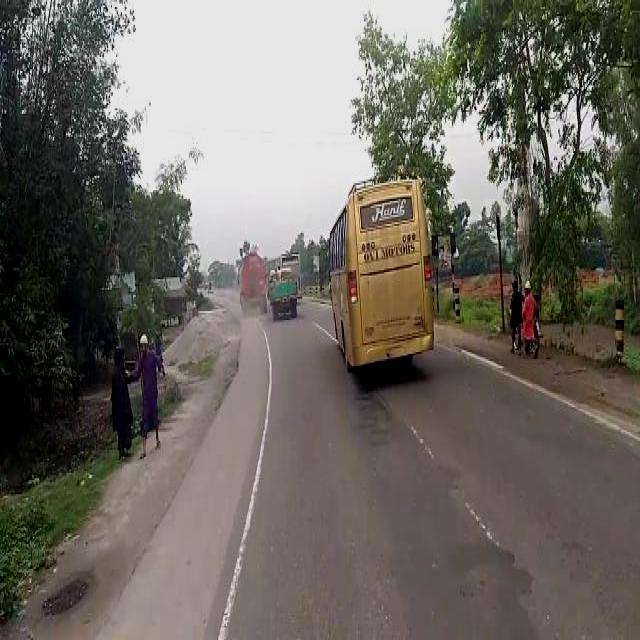BUS: (326, 188, 442, 392)
